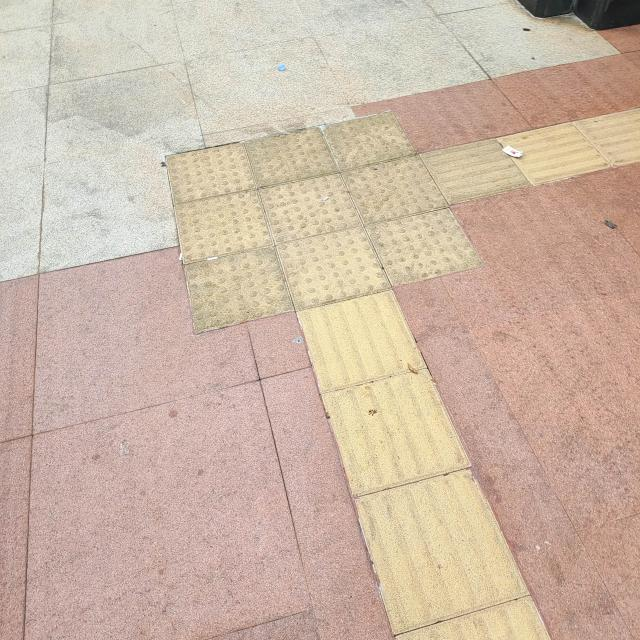kanan: (201, 72, 640, 376)
